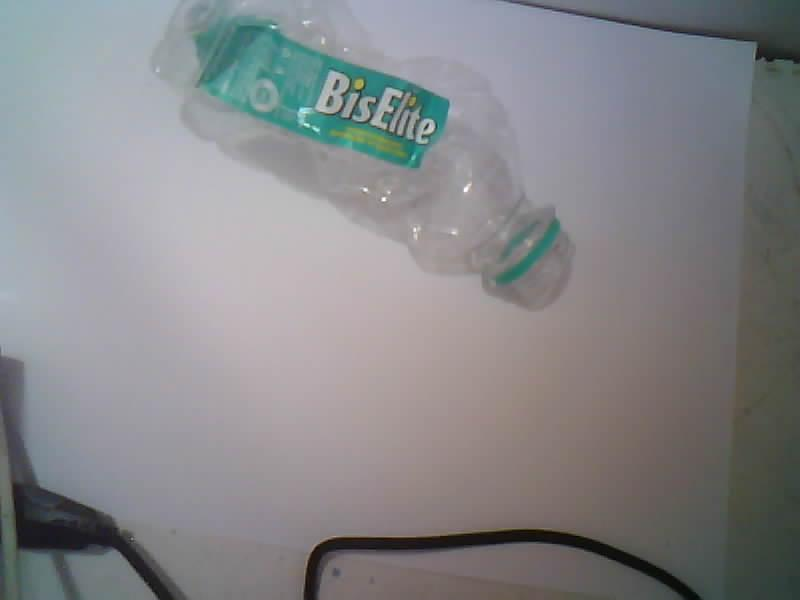non-biodegradable: (154, 0, 573, 308)
